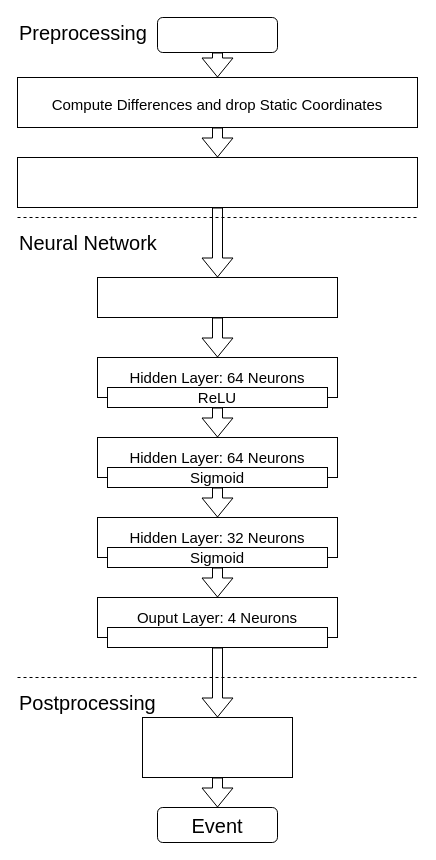
The diagram is 436 pixels wide and 860 high, and some of its shapes have lost their labels. The centre of each missing label's shape, as x and y in pixels:
"Input Layer: 27 Neurons" belongs at pixel 217 297.
"PCA" belongs at pixel 217 182.
"Sliding Window" belongs at pixel 217 747.
"Softmax" belongs at pixel 217 637.
"Video" belongs at pixel 217 34.
